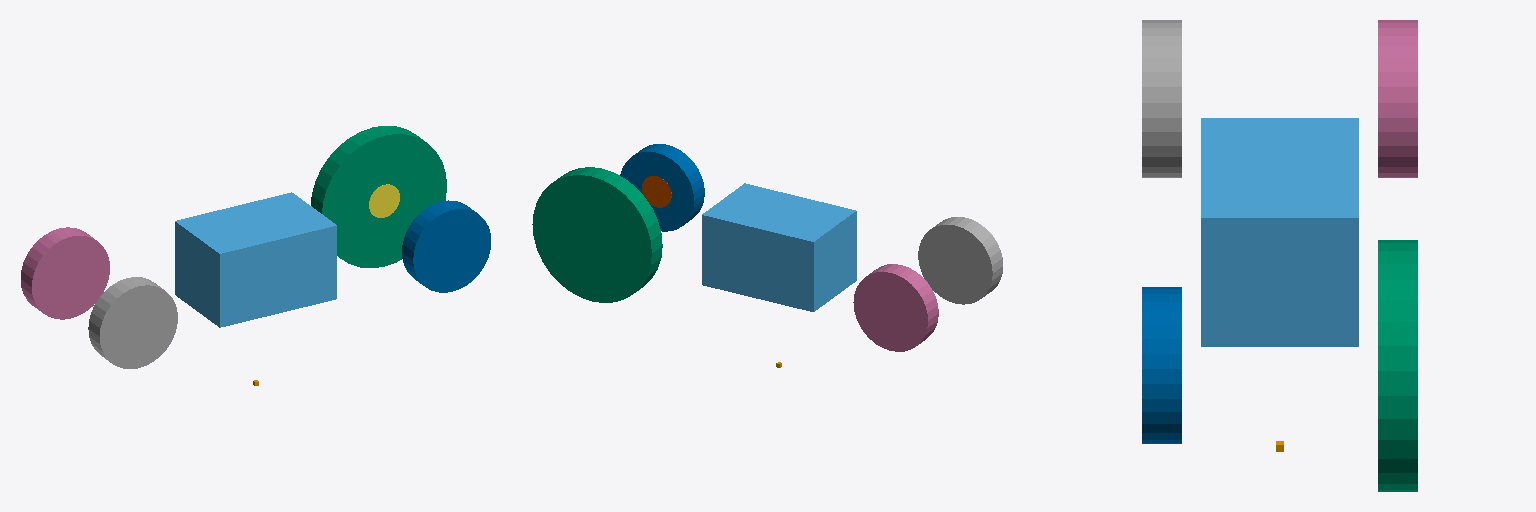
robot.urdf — glide_bot:
<?xml version="1.0"?> 
<robot name="glide_bot" xmlns:xacro="http://www.ros.org/wiki/xacro"> 
	
	<!-- Base link -->  
  <link name="base_link">
    <visual>  
      <geometry>
        <box size="0.01 0.01 0.01"/>
      </geometry>
    </visual>
  </link> 

	<!-- Chassis START-->  
	<joint name="base_joint" type="fixed">
    <parent link="base_link"/> 
    <child link="chassis"/> 
  </joint> 

  <link name="chassis"> 
    <collision> 
      <origin xyz="0 0 0.3" rpy="0 0 0"/> 
      <geometry> 
            <box size="0.3 0.2 0.18"/> 
      </geometry> 
    </collision> 
    <visual> 
      <origin xyz="0 0 0.3" rpy="0 0 0"/> 
      <geometry> 
         <box size="0.3 0.2 0.18"/> 
      </geometry> 
      <material name="orange"/> 
    </visual> 
    <inertial> 
      <mass value="1"/> 
      <origin xyz="0 0 0.3" rpy="0 0 0"/> 
      <inertia ixx="0.4" ixy="0.1" ixz="0.1" iyy="0.4" iyz="0.1" izz="0.2"/> 
    </inertial> 
  </link>    

  <gazebo reference="chassis"> 
    <!--Stiffness -->  
    <kp>1000000.0</kp> 
    <!--Dampening-->  
    <kd>0.1</kd> 
    <dampingFactor>0</dampingFactor> 
    <material>Gazebo/White</material> 
    <selfCollide>true</selfCollide> 
    <turnGravityOff>false</turnGravityOff> 
    <mu1 value="0.1"/> 
    <mu2 value="0.1"/> 
    <fdir1 value="0 0 0"/> 
  </gazebo> 
	<!-- Chassis END --> 

  <!-- Right Wheel - Start --> 
	<link name="right_wheel"> 
		
		<collision> 
		  <origin xyz="0 0 0" rpy="0 1.5708 1.5708" />
		  <geometry> 
		   <cylinder length="0.05" radius="0.16"/> 
		  </geometry> 
		</collision> 

		<visual> 
		  <origin xyz="0 0 0" rpy="0 1.5708 1.5708" /> 
		  <geometry> 
			<cylinder length="0.05" radius="0.16"/> 
		  </geometry> 
		  <material name="black"/> 
		</visual> 		

		<inertial> 
		  <origin xyz="0 0 0" rpy="0 1.5708 1.5708" /> 
		  <mass value="0.2"/> 
		  <cylinder_inertia m="0.2" r="0.3" h="0.1"/> 
      <inertia ixx="0.4" ixy="0.1" ixz="0.1" iyy="0.4" iyz="0.1" izz="0.2"/> 
	  </inertial> 

	</link> 
  <gazebo reference="right_wheel"> 
    <mu1 value="2.0"/> 
    <mu2 value="2.0"/> 
    <kp  value="10000000.0" /> 
    <kd  value="1.0" /> 
    <fdir1 value="0 1 0"/> 
    <material>Gazebo/Blue</material> 
  </gazebo>

	<link name="right_wheel_assembly">
		<collision> 
		  <origin xyz="0 0 0" rpy="0 1.5708 1.5708" />
		  <geometry> 
		   <cylinder length="0.001" radius="0.04"/> 
		  </geometry> 
		</collision> 

		<visual> 
		  <origin xyz="0 0 0" rpy="0 1.5708 1.5708" /> 
		  <geometry> 
			<cylinder length="0.001" radius="0.04"/> 
		  </geometry> 
		  <material name="white"/> 
		</visual> 		

		<inertial> 
		  <origin xyz="0 0 0" rpy="0 1.5708 1.5708" /> 
		  <mass value="0.2"/> 
		  <cylinder_inertia m="0.2" r="0.3" h="0.1"/> 
      <inertia ixx="0.4" ixy="0.1" ixz="0.1" iyy="0.4" iyz="0.1" izz="0.2"/> 
	  </inertial>
	</link>  

  <gazebo reference="right_wheel_assembly"> 
    <mu1 value="2.0"/> 
    <mu2 value="2.0"/> 
    <kp  value="10000000.0" /> 
    <kd  value="1.0" /> 
    <fdir1 value="0 1 0"/> 
    <material>Gazebo/White</material> 
  </gazebo>

  <joint name="right_wheel_hinge" type="revolute"> 
    <parent link="chassis"/> 
    <child link="right_wheel_assembly"/> 
    <origin xyz="0.4 0.125 0.3" rpy="0 0 0" />  
    <axis xyz="0 0 1" rpy="0 0 0" /> 
    <limit effort="100" velocity="1" lower="-1" upper="1"/> 
    <dynamics damping="0.0" friction="0.0"/> 
  </joint> 

  <joint name="right_wheel_rotate" type="continuous"> 
    <parent link="right_wheel_assembly"/> 
    <child link="right_wheel"/> 
    <origin xyz="0.0 0.025 0.0" rpy="0 0 0" />  
    <axis xyz="0 1 0" rpy="0 0 0" /> 
    <limit effort="100" velocity="50"/> 
    <dynamics damping="0.0" friction="0.0"/> 
  </joint>


  <transmission name="trans_right_wheel_hing">
    <type>transmission_interface/SimpleTransmission</type>
    <joint name="right_wheel_hinge">
      <hardwareInterface>EffortJointInterface</hardwareInterface>
    </joint>
    <actuator name="motor1">
      <hardwareInterface>EffortJointInterface</hardwareInterface>
      <mechanicalReduction>1</mechanicalReduction>
    </actuator>
  </transmission>

  <transmission name="trans_right_wheel_rotate">
    <type>transmission_interface/SimpleTransmission</type>
    <joint name="right_wheel_rotate">
      <hardwareInterface>EffortJointInterface</hardwareInterface>
    </joint>
    <actuator name="motor_right_wheel_rotate">
      <hardwareInterface>EffortJointInterface</hardwareInterface>
      <mechanicalReduction>1</mechanicalReduction>
    </actuator>
  </transmission>

  <!-- Right Wheel - End -->  

  <!-- Left Wheel - Start  -->
	<link name="left_wheel"> 
		
		<collision> 
		  <origin xyz="0 0 0" rpy="0 1.5708 1.5708" />
		  <geometry> 
		   <cylinder length="0.05" radius="0.1"/> 
		  </geometry> 
		</collision> 

		<visual> 
		  <origin xyz="0 0 0" rpy="0 1.5708 1.5708" /> 
		  <geometry> 
			<cylinder length="0.05" radius="0.1"/> 
		  </geometry> 
		  <material name="black"/> 
		</visual> 		

		<inertial> 
		  <origin xyz="0 0 0" rpy="0 1.5708 1.5708" /> 
		  <mass value="0.2"/> 
		  <cylinder_inertia m="0.2" r="0.3" h="0.1"/> 
      <inertia ixx="0.4" ixy="0.1" ixz="0.1" iyy="0.4" iyz="0.1" izz="0.2"/> 
	  </inertial> 

	</link> 
  <gazebo reference="left_wheel"> 
    <mu1 value="2.0"/> 
    <mu2 value="2.0"/> 
    <kp  value="10000000.0" /> 
    <kd  value="1.0" /> 
    <fdir1 value="0 1 0"/> 
    <material>Gazebo/Blue</material> 
  </gazebo>

	<link name="left_wheel_assembly">
		<collision> 
		  <origin xyz="0 0 0" rpy="0 1.5708 1.5708" />
		  <geometry> 
		   <cylinder length="0.001" radius="0.04"/> 
		  </geometry> 
		</collision> 

		<visual> 
		  <origin xyz="0 0 0" rpy="0 1.5708 1.5708" /> 
		  <geometry> 
			<cylinder length="0.001" radius="0.04"/> 
		  </geometry> 
		  <material name="white"/> 
		</visual> 		

		<inertial> 
		  <origin xyz="0 0 0" rpy="0 1.5708 1.5708" /> 
		  <mass value="0.2"/> 
		  <cylinder_inertia m="0.2" r="0.3" h="0.1"/> 
      <inertia ixx="0.4" ixy="0.1" ixz="0.1" iyy="0.4" iyz="0.1" izz="0.2"/> 
	  </inertial>
	</link>  

  <gazebo reference="left_wheel_assembly"> 
    <mu1 value="2.0"/> 
    <mu2 value="2.0"/> 
    <kp  value="10000000.0" /> 
    <kd  value="1.0" /> 
    <fdir1 value="0 1 0"/> 
    <material>Gazebo/White</material> 
  </gazebo>

  <joint name="left_wheel_hinge" type="revolute"> 
    <parent link="chassis"/> 
    <child link="left_wheel_assembly"/> 
    <origin xyz="0.4 -0.125 0.3" rpy="0 0 0" />  
    <axis xyz="0 0 1" rpy="0 0 0" /> 
    <limit effort="100" velocity="1" lower="-1" upper="1"/> 
    <dynamics damping="0.0" friction="0.0"/> 
  </joint> 

  <joint name="left_wheel_rotate" type="continuous"> 
    <parent link="left_wheel_assembly"/> 
    <child link="left_wheel"/> 
    <origin xyz="0.0 -0.025 0.0" rpy="0 0 0" />  
    <axis xyz="0 1 0" rpy="0 0 0" /> 
    <limit effort="0" velocity="0"/> 
    <dynamics damping="0.0" friction="0.0"/> 
  </joint>


  <transmission name="tran2">
    <type>transmission_interface/SimpleTransmission</type>
    <joint name="left_wheel_hinge">
      <hardwareInterface>EffortJointInterface</hardwareInterface>
    </joint>
    <actuator name="motor2">
      <hardwareInterface>EffortJointInterface</hardwareInterface>
      <mechanicalReduction>1</mechanicalReduction>
    </actuator>
  </transmission>

  <transmission name="trans_left_wheel_rotate">
    <type>transmission_interface/SimpleTransmission</type>
    <joint name="left_wheel_rotate">
      <hardwareInterface>EffortJointInterface</hardwareInterface>
    </joint>
    <actuator name="motor_left_wheel_rotate">
      <hardwareInterface>EffortJointInterface</hardwareInterface>
      <mechanicalReduction>1</mechanicalReduction>
    </actuator>
  </transmission>

  <!-- Left Wheel - End -->

  <!-- Right Rear Wheel Start -->
	<link name="right_wheel_rear"> 
		
		<collision> 
		  <origin xyz="0 0 0" rpy="0 1.5708 1.5708" />
		  <geometry> 
		   <cylinder length="0.05" radius="0.1"/> 
		  </geometry> 
		</collision> 

		<visual> 
		  <origin xyz="0 0 0" rpy="0 1.5708 1.5708" /> 
		  <geometry> 
			<cylinder length="0.05" radius="0.1"/> 
		  </geometry> 
		  <material name="black"/> 
		</visual> 		

		<inertial> 
		  <origin xyz="0 0 0" rpy="0 1.5708 1.5708" /> 
		  <mass value="0.2"/> 
		  <cylinder_inertia m="0.2" r="0.3" h="0.1"/> 
      <inertia ixx="0.4" ixy="0.1" ixz="0.1" iyy="0.4" iyz="0.1" izz="0.2"/> 
	  </inertial> 

	</link>

  <joint name="right_wheel_rear_rotate" type="continuous"> 
    <parent link="chassis"/> 
    <child link="right_wheel_rear"/> 
    <origin xyz="-0.4 0.15 0.3" rpy="0 0 0" />  
    <axis xyz="0 1 0" rpy="0 0 0" /> 
    <limit effort="0" velocity="0"/> 
    <dynamics damping="0.0" friction="0.0"/> 
  </joint>

  <gazebo reference="right_wheel_rear"> 
    <mu1 value="2.0"/> 
    <mu2 value="2.0"/> 
    <kp  value="10000000.0" /> 
    <kd  value="1.0" /> 
    <fdir1 value="0 1 0"/> 
    <material>Gazebo/Blue</material> 
  </gazebo>

  <!-- Right Rear Wheel End -->

    <!-- Right Rear Wheel Start -->
	<link name="left_wheel_rear"> 
		
		<collision> 
		  <origin xyz="0 0 0" rpy="0 1.5708 1.5708" />
		  <geometry> 
		   <cylinder length="0.05" radius="0.1"/> 
		  </geometry> 
		</collision> 

		<visual> 
		  <origin xyz="0 0 0" rpy="0 1.5708 1.5708" /> 
		  <geometry> 
			<cylinder length="0.05" radius="0.1"/> 
		  </geometry> 
		  <material name="black"/> 
		</visual> 		

		<inertial> 
		  <origin xyz="0 0 0" rpy="0 1.5708 1.5708" /> 
		  <mass value="0.2"/> 
		  <cylinder_inertia m="0.2" r="0.3" h="0.1"/> 
      <inertia ixx="0.4" ixy="0.1" ixz="0.1" iyy="0.4" iyz="0.1" izz="0.2"/> 
	  </inertial> 

	</link>

  <joint name="left_wheel_rear_rotate" type="continuous"> 
    <parent link="chassis"/> 
    <child link="left_wheel_rear"/> 
    <origin xyz="-0.4 -0.15 0.3" rpy="0 0 0" />  
    <axis xyz="0 1 0" rpy="0 0 0" /> 
    <limit effort="0" velocity="0"/> 
    <dynamics damping="0.0" friction="0.0"/> 
  </joint>

  <gazebo reference="left_wheel_rear"> 
    <mu1 value="2.0"/> 
    <mu2 value="2.0"/> 
    <kp  value="10000000.0" /> 
    <kd  value="1.0" /> 
    <fdir1 value="0 1 0"/> 
    <material>Gazebo/Blue</material> 
  </gazebo>

  <!-- Left Rear Wheel End -->
	<gazebo>
		<plugin name="gazebo_ros_control" filename="libgazebo_ros_control.so">
		  <robotNamespace>/ack</robotNamespace>
			<legacyModeNS>true</legacyModeNS>
		</plugin>
	</gazebo>


  

</robot> 

--- What the picture shows (computed from the rendered views, not written in the file) ---
3 views of the same robot in one strip: view 1: azimuth 30°, elevation 25°; view 2: azimuth 150°, elevation 25°; view 3: azimuth 270°, elevation 25° (orthographic).
Model glide_bot with 8 links and 7 joints (2 revolute, 4 continuous, 1 fixed), rooted at base_link, posed every joint at zero.
Visible links, largest first — view 1: chassis, right_wheel, left_wheel_rear, right_wheel_rear, left_wheel, right_wheel_assembly; view 2: chassis, right_wheel, right_wheel_rear, left_wheel_rear, left_wheel, left_wheel_assembly; view 3: chassis, right_wheel, right_wheel_rear, left_wheel_rear, left_wheel.
Boxes of the visible links, <box> form: chassis: <box>175,192,336,327</box>; right_wheel: <box>311,126,446,267</box>; left_wheel_rear: <box>88,277,177,368</box>; right_wheel_rear: <box>21,227,109,319</box>; left_wheel: <box>402,200,490,292</box>; right_wheel_assembly: <box>369,184,399,217</box>; chassis: <box>702,183,856,311</box>; right_wheel: <box>532,167,662,302</box>; right_wheel_rear: <box>853,264,938,351</box>; left_wheel_rear: <box>918,217,1002,304</box>; left_wheel: <box>620,144,704,231</box>; left_wheel_assembly: <box>642,176,671,207</box>; chassis: <box>1201,118,1358,346</box>; right_wheel: <box>1378,240,1417,491</box>; right_wheel_rear: <box>1378,20,1417,177</box>; left_wheel_rear: <box>1142,20,1181,177</box>; left_wheel: <box>1142,287,1181,443</box>.
Size in the robot's own frame: 1.06 by 0.35 by 0.465 metres.
Geometry: primitives only (box / cylinder / sphere), no mesh files.